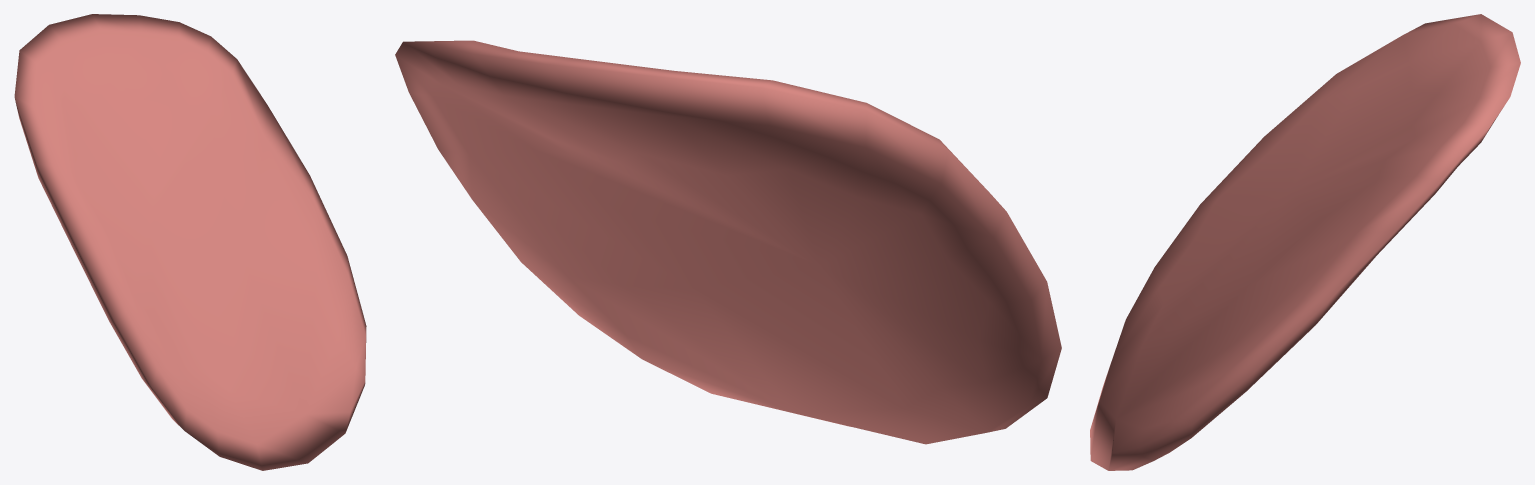
The picture shows the model from 3 angles, left to right: view 1: azimuth 30°, elevation 25°; view 2: azimuth 150°, elevation 25°; view 3: azimuth 270°, elevation 25°; orthographic projection. The views are drawn at different scales.
Parts seen in each view (by area): view 1: ZA_d7b4c7d3cc447627; view 2: ZA_d7b4c7d3cc447627; view 3: ZA_d7b4c7d3cc447627.
Boxes of the visible parts, x1=… form: ZA_d7b4c7d3cc447627: x1=14, y1=14, x2=366, y2=470; ZA_d7b4c7d3cc447627: x1=395, y1=40, x2=1061, y2=444; ZA_d7b4c7d3cc447627: x1=1090, y1=14, x2=1520, y2=470.
Size of the model in its own units: 0.00431 by 0.00498 by 0.00508.
